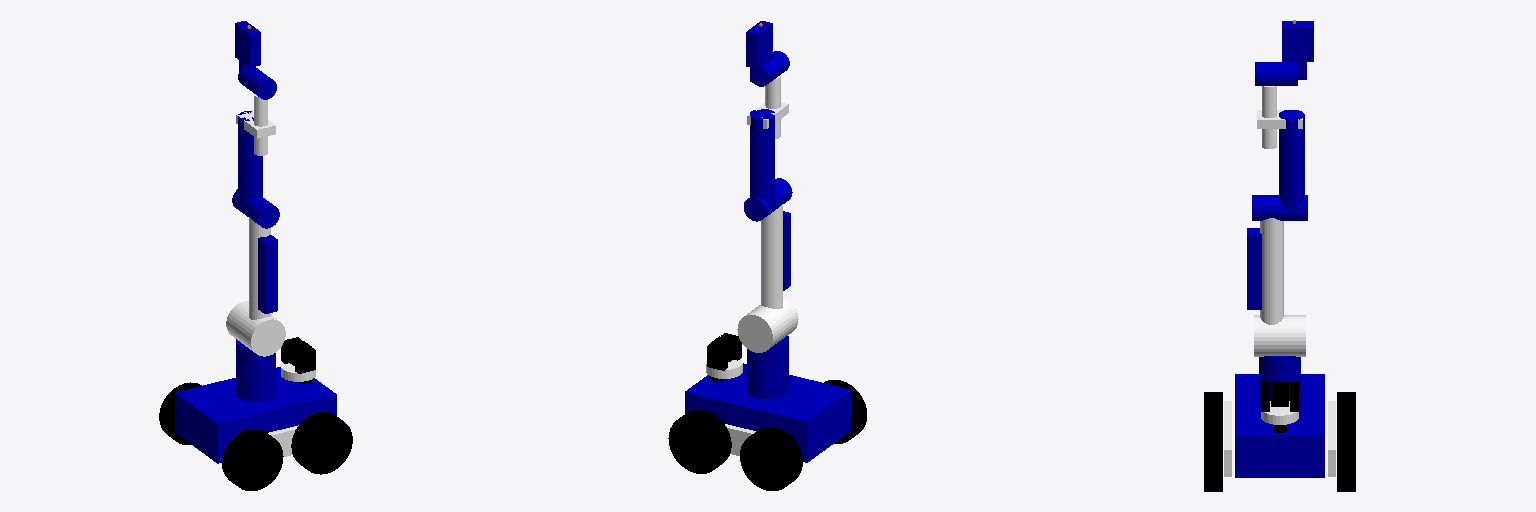
--- Render facts (derived) ---
3 views of the same robot in one strip: view 1: azimuth 30°, elevation 25°; view 2: azimuth 150°, elevation 25°; view 3: azimuth 270°, elevation 25° (orthographic).
Model kv01 with 27 links and 26 joints (6 revolute, 1 continuous, 19 fixed), rooted at frame_to_world, posed every joint at zero.
Visible links, largest first — view 1: base_link, wheel_pp, wheel_pz, model_klb0, model_klb1, link_2_3, menic1_2, link_1_2, menic4_5, model_klb2, link_3_4x, wheel_lz (+1 smaller); view 2: base_link, wheel_lp, wheel_lz, link_2_3, model_klb1, model_klb0, link_1_2, menic4_5, model_klb2, wheel_pz, menic1_2, link_3_4x (+1 smaller); view 3: base_link, link_2_3, link_1_2, model_klb1, menic4_5, wheel_lp, wheel_pp, model_klb0, menic1_2, model_klb2, link_3_4x, link_3_4 (+5 smaller).
Boxes of the visible links, x1,y1,x2,y2 form: base_link: (175,367,336,463); wheel_pp: (291,412,352,474); wheel_pz: (222,428,283,490); model_klb0: (236,339,275,401); model_klb1: (226,301,285,356); link_2_3: (238,111,262,204); menic1_2: (258,235,277,313); link_1_2: (249,217,270,319); menic4_5: (235,21,260,67); model_klb2: (232,189,279,228); link_3_4x: (238,66,276,99); wheel_lz: (159,382,201,444); base_link: (685,363,850,462); wheel_lp: (668,409,731,473); wheel_lz: (740,427,802,490); link_2_3: (750,109,774,205); model_klb1: (737,297,798,352); model_klb0: (747,336,788,398); link_1_2: (761,204,782,308); menic4_5: (746,21,772,68); model_klb2: (744,178,792,221); wheel_pz: (824,380,866,443); menic1_2: (783,211,790,290); link_3_4x: (754,51,789,86); base_link: (1235,374,1324,477); link_2_3: (1279,110,1304,212); link_1_2: (1260,218,1283,324); model_klb1: (1254,315,1305,356); menic4_5: (1282,21,1313,61); wheel_lp: (1337,427,1355,491); wheel_pp: (1204,427,1222,491); model_klb0: (1259,356,1300,407); menic1_2: (1247,228,1261,309); model_klb2: (1252,195,1307,220); link_3_4x: (1255,62,1297,85); link_3_4: (1262,86,1276,148).
Size in the robot's own frame: 0.51 by 0.52 by 1.7 metres.
0 mesh visuals loaded from 1 distinct referenced files (none loaded); not drawn: 2 (reference not matched to a file when rendering).

robot.urdf — kv01:
<?xml version="1.0" ?>
<!-- =================================================================================== -->
<!-- |    This document was autogenerated by xacro from kv01_klb4off.xacro             | -->
<!-- |    EDITING THIS FILE BY HAND IS NOT RECOMMENDED                                 | -->
<!-- =================================================================================== -->
<!--> 
Vytvorenie base framu a celej zakladne
</!-->
<robot name="kv01" xmlns:controller="http://playerstage.sourceforge.net/gazebo/xmlschema/#controller" xmlns:interface="http://playerstage.sourceforge.net/gazebo/xmlschema/#interface" xmlns:sensor="http://playerstage.sourceforge.net/gazebo/xmlschema/#sensor" xmlns:xacro="http://www.ros.org/wiki/xacro">
  <package>
    <depend package="collada_urdf"/>
  </package>
  <material name="Black">
    <color rgba="0.0 0.0 0.0 1.0"/>
  </material>
  <material name="Blue">
    <color rgba="0.0 0.0 0.8 1.0"/>
  </material>
  <material name="Green">
    <color rgba="0.0 0.8 0.0 1.0"/>
  </material>
  <material name="Grey">
    <color rgba="0.2 0.2 0.2 1.0"/>
  </material>
  <material name="White">
    <color rgba="1.0 1.0 1.0 1.0"/>
  </material>
  <gazebo>
    <plugin filename="libgazebo_ros_control.so" name="gazebo_ros_control">
      <robotNamespace>/kv01</robotNamespace>
    </plugin>
  </gazebo>
  <gazebo reference="frame_to_world">
    <mu1>0.5</mu1>
    <mu2>0.5</mu2>
    <turnGravityOff>false</turnGravityOff>
    <material>Gazebo/Black</material>
  </gazebo>
  <gazebo reference="base_link">
    <mu1>0.5</mu1>
    <mu2>0.5</mu2>
    <turnGravityOff>false</turnGravityOff>
    <material>Gazebo/Blue</material>
  </gazebo>
  <gazebo reference="scan">
    <mu1>0.5</mu1>
    <mu2>0.5</mu2>
    <turnGravityOff>false</turnGravityOff>
    <material>Gazebo/Black</material>
  </gazebo>
  <gazebo reference="camera_l">
    <mu1>0.5</mu1>
    <mu2>0.5</mu2>
    <turnGravityOff>false</turnGravityOff>
    <material>Gazebo/Black</material>
  </gazebo>
  <gazebo reference="camera_r">
    <mu1>0.5</mu1>
    <mu2>0.5</mu2>
    <turnGravityOff>false</turnGravityOff>
    <material>Gazebo/Black</material>
  </gazebo>
  <gazebo reference="camera">
    <mu1>0.5</mu1>
    <mu2>0.5</mu2>
    <turnGravityOff>false</turnGravityOff>
    <material>Gazebo/Black</material>
  </gazebo>
  <gazebo reference="veza">
    <mu1>0.5</mu1>
    <mu2>0.5</mu2>
    <turnGravityOff>false</turnGravityOff>
    <material>Gazebo/White</material>
  </gazebo>
  <gazebo reference="wheel_lp">
    <mu1>0.5</mu1>
    <mu2>0.5</mu2>
    <turnGravityOff>false</turnGravityOff>
    <material>Gazebo/Black</material>
  </gazebo>
  <gazebo reference="wheel_lz">
    <mu1>0.5</mu1>
    <mu2>0.5</mu2>
    <turnGravityOff>false</turnGravityOff>
    <material>Gazebo/Black</material>
  </gazebo>
  <gazebo reference="wheel_pp">
    <mu1>0.5</mu1>
    <mu2>0.5</mu2>
    <turnGravityOff>false</turnGravityOff>
    <material>Gazebo/Black</material>
  </gazebo>
  <gazebo reference="wheel_pz">
    <mu1>0.5</mu1>
    <mu2>0.5</mu2>
    <turnGravityOff>false</turnGravityOff>
    <material>Gazebo/Black</material>
  </gazebo>
  <!--> Gadzebo definicia ramena</!-->
  <gazebo reference="model_klb0">
    <mu1>0.5</mu1>
    <mu2>0.5</mu2>
    <turnGravityOff>false</turnGravityOff>
    <material>Gazebo/Blue</material>
  </gazebo>
  <gazebo reference="model_klb1">
    <mu1>0.5</mu1>
    <mu2>0.5</mu2>
    <turnGravityOff>false</turnGravityOff>
    <material>Gazebo/White</material>
  </gazebo>
  <gazebo reference="link_1_2">
    <mu1>0.5</mu1>
    <mu2>0.5</mu2>
    <turnGravityOff>false</turnGravityOff>
    <material>Gazebo/White</material>
  </gazebo>
  <gazebo reference="menic1_2">
    <mu1>0.5</mu1>
    <mu2>0.5</mu2>
    <turnGravityOff>false</turnGravityOff>
    <material>Gazebo/Blue</material>
  </gazebo>
  <gazebo reference="model_klb2">
    <mu1>0.5</mu1>
    <mu2>0.5</mu2>
    <turnGravityOff>false</turnGravityOff>
    <material>Gazebo/Blue</material>
  </gazebo>
  <gazebo reference="link_2_3">
    <mu1>0.5</mu1>
    <mu2>0.5</mu2>
    <turnGravityOff>false</turnGravityOff>
    <material>Gazebo/Blue</material>
  </gazebo>
  <gazebo reference="model_klb3">
    <mu1>0.5</mu1>
    <mu2>0.5</mu2>
    <turnGravityOff>false</turnGravityOff>
    <material>Gazebo/Blue</material>
  </gazebo>
  <gazebo reference="link_3_4">
    <mu1>0.5</mu1>
    <mu2>0.5</mu2>
    <turnGravityOff>false</turnGravityOff>
    <material>Gazebo/White</material>
  </gazebo>
  <gazebo reference="link_3_4x">
    <mu1>0.5</mu1>
    <mu2>0.5</mu2>
    <turnGravityOff>false</turnGravityOff>
    <material>Gazebo/Blue</material>
  </gazebo>
  <gazebo reference="model_klb4">
    <mu1>0.5</mu1>
    <mu2>0.5</mu2>
    <turnGravityOff>false</turnGravityOff>
    <material>Gazebo/Blue</material>
  </gazebo>
  <gazebo reference="menic4_5">
    <mu1>0.5</mu1>
    <mu2>0.5</mu2>
    <turnGravityOff>false</turnGravityOff>
    <material>Gazebo/Blue</material>
  </gazebo>
  <gadzebo reference="camera_r_to_camera">
    <erp>0.1</erp>
    <stopKd value="1000000.0"/>
    <stopKp value="10000.0"/>
    <fudgeFactor value="0.3"/>
    <implicitSpringDamper>true</implicitSpringDamper>
  </gadzebo>
  <gadzebo reference="scan_to_veza">
    <erp>0.1</erp>
    <stopKd value="1000000.0"/>
    <stopKp value="10000.0"/>
    <fudgeFactor value="0.3"/>
    <implicitSpringDamper>true</implicitSpringDamper>
  </gadzebo>
  <gadzebo reference="klb0">
    <erp>0.1</erp>
    <stopKd value="1000000.0"/>
    <stopKp value="10000.0"/>
    <fudgeFactor value="0.3"/>
    <implicitSpringDamper>true</implicitSpringDamper>
  </gadzebo>
  <gadzebo reference="klb1">
    <erp>0.1</erp>
    <stopKd value="1000000.0"/>
    <stopKp value="10000.0"/>
    <fudgeFactor value="0.3"/>
    <implicitSpringDamper>true</implicitSpringDamper>
  </gadzebo>
  <gadzebo reference="klb2">
    <erp>0.1</erp>
    <stopKd value="1000000.0"/>
    <stopKp value="10000.0"/>
    <fudgeFactor value="0.3"/>
    <implicitSpringDamper>true</implicitSpringDamper>
  </gadzebo>
  <gadzebo reference="klb3">
    <erp>0.1</erp>
    <stopKd value="1000000.0"/>
    <stopKp value="10000.0"/>
    <fudgeFactor value="0.3"/>
    <implicitSpringDamper>true</implicitSpringDamper>
  </gadzebo>
  <gadzebo reference="klb4">
    <erp>0.1</erp>
    <stopKd value="1000000.0"/>
    <stopKp value="10000.0"/>
    <fudgeFactor value="0.3"/>
    <implicitSpringDamper>true</implicitSpringDamper>
  </gadzebo>
  <gadzebo reference="klb5">
    <erp>0.1</erp>
    <stopKd value="1000000.0"/>
    <stopKp value="10000.0"/>
    <fudgeFactor value="0.3"/>
    <implicitSpringDamper>true</implicitSpringDamper>
  </gadzebo>
  <group name="right_arm">
    <chain base_link="base_link" tip_link="model_klb5"/>
  </group>
  <link name="frame_to_world"/>
  <joint name="world_to_base" type="fixed">
    <parent link="frame_to_world"/>
    <child link="base_link"/>
  </joint>
  <link name="base_link">
    <visual>
      <geometry>
        <box size="0.5 .31 .16"/>
      </geometry>
      <origin xyz="0 0 0"/>
      <material name="modra">
        <color rgba="0 0 0.8 1"/>
      </material>
    </visual>
    <inertial>
      <mass value="10"/>
      <inertia ixx="0.1" ixy="0.0" ixz="0.0" iyy="0.1" iyz="0.0" izz="0.1"/>
    </inertial>
    <collision>
      <geometry>
        <box size="0.5 .31 .30"/>
      </geometry>
      <origin xyz="0 0 0.08"/>
    </collision>
  </link>
  <link name="scan">
    <visual>
      <geometry>
        <cylinder length="0.03" radius="0.025"/>
      </geometry>
      <material name="cierna">
        <color rgba="0 0 0 1"/>
      </material>
    </visual>
    <inertial>
      <mass value="0.1"/>
      <inertia ixx="0.1" ixy="0.0" ixz="0.0" iyy="0.1" iyz="0.0" izz="0.1"/>
    </inertial>
  </link>
  <joint name="base_to_scan" type="fixed">
    <parent link="base_link"/>
    <child link="scan"/>
    <origin xyz="0.2075 0 0.095"/>
  </joint>
  <link name="veza">
    <visual>
      <geometry>
        <cylinder length="0.035" radius="0.065"/>
      </geometry>
      <material name="biela">
        <color rgba="1 1 1 1"/>
      </material>
    </visual>
    <inertial>
      <mass value="0.3"/>
      <inertia ixx="0.1" ixy="0.0" ixz="0.0" iyy="0.1" iyz="0.0" izz="0.1"/>
    </inertial>
  </link>
  <joint name="scan_to_veza" type="revolute">
    <parent link="scan"/>
    <child link="veza"/>
    <origin xyz="-0.03 0 0.0375"/>
    <axis xyz="0 0 1"/>
    <limit effort="30.0" lower="-2.09439" upper="3.14159" velocity="0.5"/>
  </joint>
  <link name="camera_l">
    <visual>
      <geometry>
        <box size="0.07 .03 .08"/>
      </geometry>
      <material name="cierna"/>
    </visual>
    <inertial>
      <mass value="0.1"/>
      <inertia ixx="0.1" ixy="0.0" ixz="0.0" iyy="0.1" iyz="0.0" izz="0.1"/>
    </inertial>
  </link>
  <joint name="veza_to_camera_l" type="fixed">
    <parent link="veza"/>
    <child link="camera_l"/>
    <origin xyz="0 0.05 0.0575"/>
  </joint>
  <link name="camera_r">
    <visual>
      <geometry>
        <box size="0.07 .03 .08"/>
      </geometry>
      <material name="cierna"/>
    </visual>
    <inertial>
      <mass value="0.1"/>
      <inertia ixx="0.1" ixy="0.0" ixz="0.0" iyy="0.1" iyz="0.0" izz="0.1"/>
    </inertial>
  </link>
  <joint name="veza_to_camera_r" type="fixed">
    <parent link="veza"/>
    <child link="camera_r"/>
    <origin xyz="0 -0.05 0.0575"/>
  </joint>
  <link name="camera">
    <visual>
      <geometry>
        <box size="0.075 .06 .06"/>
      </geometry>
      <material name="cierna"/>
    </visual>
    <inertial>
      <mass value="0.4"/>
      <inertia ixx="0.1" ixy="0.0" ixz="0.0" iyy="0.1" iyz="0.0" izz="0.1"/>
    </inertial>
  </link>
  <joint name="camera_r_to_camera" type="revolute">
    <limit effort="30.0" lower="-0.523598" upper="1.570795" velocity="0.5"/>
    <parent link="camera_r"/>
    <child link="camera"/>
    <origin rpy=" 1.570795 0 0" xyz="0 0.05 0.01"/>
    <axis xyz="0 0 1"/>
  </joint>
  <link name="wheel_frame_l">
    <visual>
      <geometry>
        <box size="0.4 .025 .1"/>
      </geometry>
      <material name="biela"/>
    </visual>
    <inertial>
      <mass value="1.3"/>
      <inertia ixx="0.1" ixy="0.0" ixz="0.0" iyy="0.1" iyz="0.0" izz="0.1"/>
    </inertial>
  </link>
  <joint name="base_link_to_wheel_frame_l" type="fixed">
    <parent link="base_link"/>
    <child link="wheel_frame_l"/>
    <origin xyz="0 +0.1775 -0.05"/>
    <axis xyz="0 1 0"/>
  </joint>
  <link name="wheel_frame_r">
    <visual>
      <geometry>
        <box size="0.4 .025 .1"/>
      </geometry>
      <material name="biela"/>
    </visual>
    <inertial>
      <mass value="1.3"/>
      <inertia ixx="0.1" ixy="0.0" ixz="0.0" iyy="0.1" iyz="0.0" izz="0.1"/>
    </inertial>
  </link>
  <joint name="base_link_to_wheel_frame_r" type="fixed">
    <parent link="base_link"/>
    <child link="wheel_frame_r"/>
    <origin xyz="0 -0.1775 -0.05"/>
    <axis xyz="0 1 0"/>
  </joint>
  <link name="wheel_lp">
    <visual>
      <geometry>
        <cylinder length="0.065" radius="0.11"/>
      </geometry>
      <material name="cierna"/>
    </visual>
    <inertial>
      <mass value="0.5"/>
      <inertia ixx="0.1" ixy="0.0" ixz="0.0" iyy="0.1" iyz="0.0" izz="0.1"/>
    </inertial>
    <collision>
      <geometry>
        <cylinder length="0.065" radius="0.11"/>
      </geometry>
    </collision>
  </link>
  <joint name="wheel_frame_l_to_wheel_lp" type="fixed">
    <parent link="wheel_frame_l"/>
    <child link="wheel_lp"/>
    <origin rpy=" 1.570795 0 0" xyz="0.145 0.05 -0.01"/>
    <axis xyz="0 0 1"/>
  </joint>
  <link name="wheel_lz">
    <visual>
      <geometry>
        <cylinder length="0.065" radius="0.11"/>
      </geometry>
      <material name="cierna"/>
    </visual>
    <inertial>
      <mass value="0.5"/>
      <inertia ixx="0.1" ixy="0.0" ixz="0.0" iyy="0.1" iyz="0.0" izz="0.1"/>
    </inertial>
    <collision>
      <geometry>
        <cylinder length="0.065" radius="0.11"/>
      </geometry>
    </collision>
  </link>
  <joint name="wheel_frame_l_to_wheel_lz" type="fixed">
    <parent link="wheel_frame_l"/>
    <child link="wheel_lz"/>
    <origin rpy=" 1.570795 0 0" xyz="-0.145 0.05 -0.01"/>
    <axis xyz="0 0 1"/>
  </joint>
  <link name="wheel_pp">
    <visual>
      <geometry>
        <cylinder length="0.065" radius="0.11"/>
      </geometry>
      <material name="cierna"/>
    </visual>
    <inertial>
      <mass value="0.5"/>
      <inertia ixx="0.1" ixy="0.0" ixz="0.0" iyy="0.1" iyz="0.0" izz="0.1"/>
    </inertial>
    <collision>
      <geometry>
        <cylinder length="0.065" radius="0.11"/>
      </geometry>
    </collision>
  </link>
  <joint name="wheel_frame_r_to_wheel_pp" type="fixed">
    <parent link="wheel_frame_r"/>
    <child link="wheel_pp"/>
    <origin rpy=" 1.570795 0 0" xyz="0.145 -0.05 -0.01"/>
    <axis xyz="0 0 1"/>
  </joint>
  <link name="wheel_pz">
    <visual>
      <geometry>
        <cylinder length="0.065" radius="0.11"/>
      </geometry>
      <material name="cierna"/>
    </visual>
    <inertial>
      <mass value="0.5"/>
      <inertia ixx="0.1" ixy="0.0" ixz="0.0" iyy="0.1" iyz="0.0" izz="0.1"/>
    </inertial>
    <collision>
      <geometry>
        <cylinder length="0.065" radius="0.11"/>
      </geometry>
    </collision>
  </link>
  <joint name="wheel_frame_r_to_wheel_pz" type="fixed">
    <parent link="wheel_frame_r"/>
    <child link="wheel_pz"/>
    <origin rpy=" 1.570795 0 0" xyz="-0.145 -0.05 -0.01"/>
    <axis xyz="0 0 1"/>
  </joint>
  <!--> 
Cast ramena pripojena k podvozku nadvazuje na base frame zakladne ... obmedzenia klbov aj linkou su predimenzovane klby su znizene pohybovo o 15 stupnov
</!-->
  <joint name="klb0" type="revolute">
    <limit effort="50" lower="-1.75" upper="1.75" velocity="0.2"/>
    <parent link="base_link"/>
    <child link="model_klb0"/>
    <origin rpy="0 0 0" xyz="0 0 .08"/>
    <axis xyz="0 0 1"/>
    <dynamics damping="1" fricction="1"/>
  </joint>
  <link name="model_klb0">
    <visual>
      <geometry>
        <cylinder length="0.258" radius="0.0725"/>
      </geometry>
      <material name="modra"/>
      <origin rpy="0 0 0" xyz="0 0 0.08"/>
    </visual>
    <inertial>
      <mass value="0.8"/>
      <inertia ixx="1" ixy="0.0" ixz="0.0" iyy="1" iyz="0.0" izz="1"/>
    </inertial>
  </link>
  <joint name="klb1" type="revolute">
    <limit effort="100" lower="-1.4" upper="1.4" velocity="0.2"/>
    <parent link="model_klb0"/>
    <child link="model_klb1"/>
    <origin rpy="0 0 0" xyz="0 0 .258"/>
    <axis xyz="0 1 0"/>
    <dynamics damping="1" fricction="1"/>
  </joint>
  <link name="model_klb1">
    <visual>
      <geometry>
        <cylinder length="0.180" radius="0.0725"/>
      </geometry>
      <material name="biela"/>
      <origin rpy="1.570795 0 0" xyz="0 0 0"/>
    </visual>
    <collision>
      <geometry>
        <cylinder length="0.180" radius="0.0725"/>
      </geometry>
      <origin rpy="1.570795 0 0" xyz="0 0 0"/>
    </collision>
    <inertial>
      <mass value="0.8"/>
      <inertia ixx="1" ixy="0.0" ixz="0.0" iyy="1" iyz="0.0" izz="1"/>
    </inertial>
  </link>
  <joint name="spoj_klb1_klb2" type="fixed">
    <parent link="model_klb1"/>
    <child link="link_1_2"/>
    <origin rpy="0 0 0" xyz="0 -0.028 0.2425"/>
  </joint>
  <link name="link_1_2">
    <visual>
      <geometry>
        <cylinder length="0.485" radius="0.040"/>
      </geometry>
      <material name="biela"/>
      <origin rpy="0 0 0" xyz="0 0 0"/>
    </visual>
    <collision>
      <geometry>
        <cylinder length="0.330" radius="0.070"/>
      </geometry>
      <origin rpy="0 0 0" xyz="0 -0.025 0.01"/>
    </collision>
    <inertial>
      <mass value="0.8"/>
      <inertia ixx="0.1" ixy="0.0" ixz="0.0" iyy="0.1" iyz="0.0" izz="0.1"/>
    </inertial>
  </link>
  <joint name="spoj_klb1_klb2_menic" type="fixed">
    <parent link="model_klb1"/>
    <child link="menic1_2"/>
    <origin rpy="0 0 0" xyz="0 -0.088 0.2425"/>
  </joint>
  <link name="menic1_2">
    <visual>
      <geometry>
        <box size="0.055 0.050 .285"/>
      </geometry>
      <material name="modra"/>
      <origin rpy="0 0 0" xyz="0 0 0.010"/>
    </visual>
    <inertial>
      <mass value="0.4"/>
      <inertia ixx="0.1" ixy="0.0" ixz="0.0" iyy="0.1" iyz="0.0" izz="0.1"/>
    </inertial>
  </link>
  <joint name="klb2" type="revolute">
    <limit effort="50" lower="-2.01" upper="2.01" velocity="0.3"/>
    <parent link="model_klb1"/>
    <child link="model_klb2"/>
    <origin rpy="0 0 0" xyz="0 0 0.485"/>
    <axis xyz="0 -1 0"/>
    <dynamics damping="1" fricction="1"/>
  </joint>
  <link name="model_klb2">
    <visual>
      <geometry>
        <cylinder length="0.190" radius="0.045"/>
      </geometry>
      <material name="modra"/>
      <origin rpy="1.570795 0 0" xyz="0 0 0"/>
    </visual>
    <collision>
      <geometry>
        <cylinder length="0.195" radius="0.050"/>
      </geometry>
      <origin rpy="1.570795 0 0" xyz="0 0 0"/>
    </collision>
    <inertial>
      <mass value="0.45"/>
      <inertia ixx="1" ixy="0.0" ixz="0.0" iyy="1" iyz="0.0" izz="1"/>
    </inertial>
  </link>
  <joint name="spoj_klb2_klb3" type="fixed">
    <parent link="model_klb2"/>
    <child link="link_2_3"/>
    <origin rpy="0 0 0" xyz="0 0.040 0"/>
  </joint>
  <link name="link_2_3">
    <visual>
      <geometry>
        <cylinder length="0.350" radius="0.045"/>
      </geometry>
      <material name="modra"/>
      <origin rpy="0 0 0" xyz="0. 0 0.175"/>
    </visual>
    <collision>
      <geometry>
        <cylinder length="0.155" radius="0.045"/>
      </geometry>
      <origin rpy="0 0 0" xyz="0.015 0 0.135"/>
    </collision>
    <inertial>
      <mass value="0.6"/>
      <inertia ixx="0.1" ixy="0.0" ixz="0.0" iyy="0.1" iyz="0.0" izz="0.1"/>
    </inertial>
  </link>
  <!-- <joint name="klb3" type="continuous">
    <limit effort="50" velocity="0.2"/>
    <parent link="model_klb2"/>
    <child link="model_klb3"/>
    <origin xyz="0 0.040 0.350 " rpy="0 0 0"/>
    <axis xyz="0 0 -1"/>
    <dynamika/>
    </joint> -->
  <joint name="klb3" type="fixed">
    <parent link="model_klb2"/>
    <child link="model_klb3"/>
    <origin rpy="0 0 0" xyz="0 0.040 0.350 "/>
    <dynamics damping="1" fricction="1"/>
  </joint>
  <link name="model_klb3">
    <visual>
      <geometry>
        <box size="0.080 .155 .035"/>
      </geometry>
      <material name="biela"/>
      <origin rpy="0 0 0" xyz="0 -0.040  -0.0175"/>
    </visual>
    <collision>
      <geometry>
        <cylinder length="0.120" radius="0.040"/>
      </geometry>
      <origin rpy=" 0 0 0" xyz="0 0 -0.055"/>
    </collision>
    <inertial>
      <mass value="0.2"/>
      <inertia ixx="1" ixy="0.0" ixz="0.0" iyy="1" iyz="0.0" izz="1"/>
    </inertial>
  </link>
  <joint name="spoj_klb4_klb5" type="fixed">
    <parent link="model_klb3"/>
    <child link="link_3_4"/>
    <origin rpy="3.14159 0 0" xyz="0 -0.076 0"/>
  </joint>
  <link name="link_3_4">
    <visual>
      <geometry>
        <cylinder length="0.2345" radius="0.027"/>
      </geometry>
      <material name="biela"/>
      <origin rpy="0 0 0" xyz="0 0 0"/>
    </visual>
    <collision>
      <geometry>
        <cylinder length="0.2335" radius="0.027"/>
      </geometry>
      <origin rpy="0 0 0" xyz="0 0 0.005"/>
    </collision>
    <inertial>
      <mass value="0.45"/>
      <inertia ixx="0.1" ixy="0.0" ixz="0.0" iyy="0.1" iyz="0.0" izz="0.1"/>
    </inertial>
  </link>
  <joint name="spoj_klb3_klb4x" type="fixed">
    <parent link="model_klb3"/>
    <child link="link_3_4x"/>
    <origin rpy="1.570795 0 0" xyz="0 -0.052 0.155"/>
  </joint>
  <link name="link_3_4x">
    <visual>
      <geometry>
        <cylinder length="0.145" radius="0.040"/>
      </geometry>
      <material name="modra"/>
      <origin rpy="0 0 0" xyz="0 0 0"/>
    </visual>
    <collision>
      <geometry>
        <cylinder length="0.145" radius="0.040"/>
      </geometry>
      <origin rpy="0 0 0" xyz="0 0 0"/>
    </collision>
    <inertial>
      <mass value="0.3"/>
      <inertia ixx="0.1" ixy="0.0" ixz="0.0" iyy="0.1" iyz="0.0" izz="0.1"/>
    </inertial>
  </link>
  <joint name="klb4" type="revolute">
    <limit effort="40" lower="-2.09" upper="2.09" velocity="0.2"/>
    <parent link="model_klb3"/>
    <child link="model_klb4"/>
    <origin rpy="0 0 0" xyz="0 0.036 0.155"/>
    <axis xyz="0 -1 0"/>
    <dynamics damping="1" fricction="1"/>
  </joint>
  <link name="model_klb4">
    <visual>
      <geometry>
        <box size="0.040 0.030 0.080"/>
      </geometry>
      <material name="modra"/>
      <origin rpy="0 0 0" xyz="0 0 0.025"/>
    </visual>
    <collision>
      <geometry>
        <box size="0.040 0.030 0.075"/>
      </geometry>
      <origin rpy="0 0 0" xyz="0 0 0.015"/>
    </collision>
    <inertial>
      <mass value="0.08"/>
      <inertia ixx="1" ixy="0.0" ixz="0.0" iyy="1" iyz="0.0" izz="1"/>
    </inertial>
  </link>
  <joint name="spoj_menic4_5_gripper" type="fixed">
    <parent link="model_klb4"/>
    <child link="menic4_5"/>
    <origin rpy="0 0 0" xyz="0 -0.015 0.055"/>
  </joint>
  <link name="menic4_5">
    <visual>
      <geometry>
        <box size="0.045 0.110 0.135"/>
      </geometry>
      <material name="modra"/>
      <origin rpy="0 0 0" xyz="0 0 0.0675"/>
    </visual>
    <collision>
      <geometry>
        <box size="0.045 0.110 0.135"/>
      </geometry>
      <origin rpy="0 0 0" xyz="0 0 0.0675"/>
    </collision>
    <inertial>
      <mass value="0.2"/>
      <inertia ixx="0.1" ixy="0.0" ixz="0.0" iyy="0.1" iyz="0.0" izz="0.1"/>
    </inertial>
  </link>
  <joint name="klb5" type="continuous">
    <limit effort="40" velocity="0.2"/>
    <parent link="model_klb4"/>
    <child link="model_klb5"/>
    <origin rpy="0 0 0" xyz="0 -0.025 0.190"/>
    <axis xyz="0 0 1"/>
    <dynamics damping="1" fricction="1"/>
  </joint>
  <link name="model_klb5">
    <visual>
      <geometry>
        <box size="0.01 0.01 0.01"/>
      </geometry>
      <origin rpy="0 0 0" xyz="0 0 0.005"/>
    </visual>
    <collision>
      <geometry>
        <box size="0.030 0.165 0.135"/>
      </geometry>
      <origin rpy="0 0 0" xyz="0 0 0.070"/>
    </collision>
    <inertial>
      <mass value="0.2"/>
      <inertia ixx="0.1" ixy="0.0" ixz="0.0" iyy="0.1" iyz="0.0" izz="0.1"/>
    </inertial>
  </link>
  <joint name="uchopovacL" type="fixed">
    <parent link="model_klb5"/>
    <child link="uchopenie_lavo"/>
    <origin rpy="0 0 1.570795" xyz="0 0 0.02"/>
  </joint>
  <joint name="uchopovacR" type="fixed">
    <parent link="model_klb5"/>
    <child link="uchopenie_pravo"/>
    <origin rpy="0 0 1.570795" xyz="0 0 0.02"/>
  </joint>
  <link name="uchopenie_lavo">
    <visual>
      <geometry>
        <mesh filename="package://pr2_description/meshes/gripper_v0/l_finger.dae"/>
      </geometry>
      <origin rpy="1.570795 -1.570795 0"/>
    </visual>
    <inertial>
      <mass value="0.05"/>
      <inertia ixx="0.1" ixy="0.0" ixz="0.0" iyy="0.1" iyz="0.0" izz="0.1"/>
    </inertial>
  </link>
  <link name="uchopenie_pravo">
    <visual>
      <geometry>
        <mesh filename="package://pr2_description/meshes/gripper_v0/l_finger.dae"/>
      </geometry>
      <origin rpy="1.570795 -1.570795 3.14159"/>
    </visual>
    <inertial>
      <mass value="0.05"/>
      <inertia ixx="0.1" ixy="0.0" ixz="0.0" iyy="0.1" iyz="0.0" izz="0.1"/>
    </inertial>
  </link>
  <transmission name="tran1">
    <type>transmission_interface/SimpleTransmission</type>
    <joint name="klb0">
      <hardwareInterface>EffortJointInterface</hardwareInterface>
    </joint>
    <actuator name="motor1">
      <hardwareInterface>EffortJointInterface</hardwareInterface>
      <mechanicalReduction>3682</mechanicalReduction>
    </actuator>
  </transmission>
  <transmission name="tran2">
    <type>transmission_interface/SimpleTransmission</type>
    <joint name="klb1">
      <hardwareInterface>EffortJointInterface</hardwareInterface>
    </joint>
    <actuator name="motor2">
      <hardwareInterface>EffortJointInterface</hardwareInterface>
      <mechanicalReduction>2547</mechanicalReduction>
    </actuator>
  </transmission>
  <transmission name="tran3">
    <type>transmission_interface/SimpleTransmission</type>
    <joint name="klb2">
      <hardwareInterface>EffortJointInterface</hardwareInterface>
    </joint>
    <actuator name="motor3">
      <hardwareInterface>EffortJointInterface</hardwareInterface>
      <mechanicalReduction>8178</mechanicalReduction>
    </actuator>
  </transmission>
  <transmission name="tran4">
    <type>transmission_interface/SimpleTransmission</type>
    <joint name="klb3">
      <hardwareInterface>EffortJointInterface</hardwareInterface>
    </joint>
    <actuator name="motor4">
      <hardwareInterface>EffortJointInterface</hardwareInterface>
      <mechanicalReduction>6083.64</mechanicalReduction>
    </actuator>
  </transmission>
  <transmission name="tran5">
    <type>transmission_interface/SimpleTransmission</type>
    <joint name="klb4">
      <hardwareInterface>EffortJointInterface</hardwareInterface>
    </joint>
    <actuator name="motor5">
      <hardwareInterface>EffortJointInterface</hardwareInterface>
      <mechanicalReduction>6083.64</mechanicalReduction>
    </actuator>
  </transmission>
  <transmission name="tran6">
    <type>transmission_interface/SimpleTransmission</type>
    <joint name="klb5">
      <hardwareInterface>EffortJointInterface</hardwareInterface>
    </joint>
    <actuator name="motor6">
      <hardwareInterface>EffortJointInterface</hardwareInterface>
      <mechanicalReduction>6083.64</mechanicalReduction>
    </actuator>
  </transmission>
</robot>
